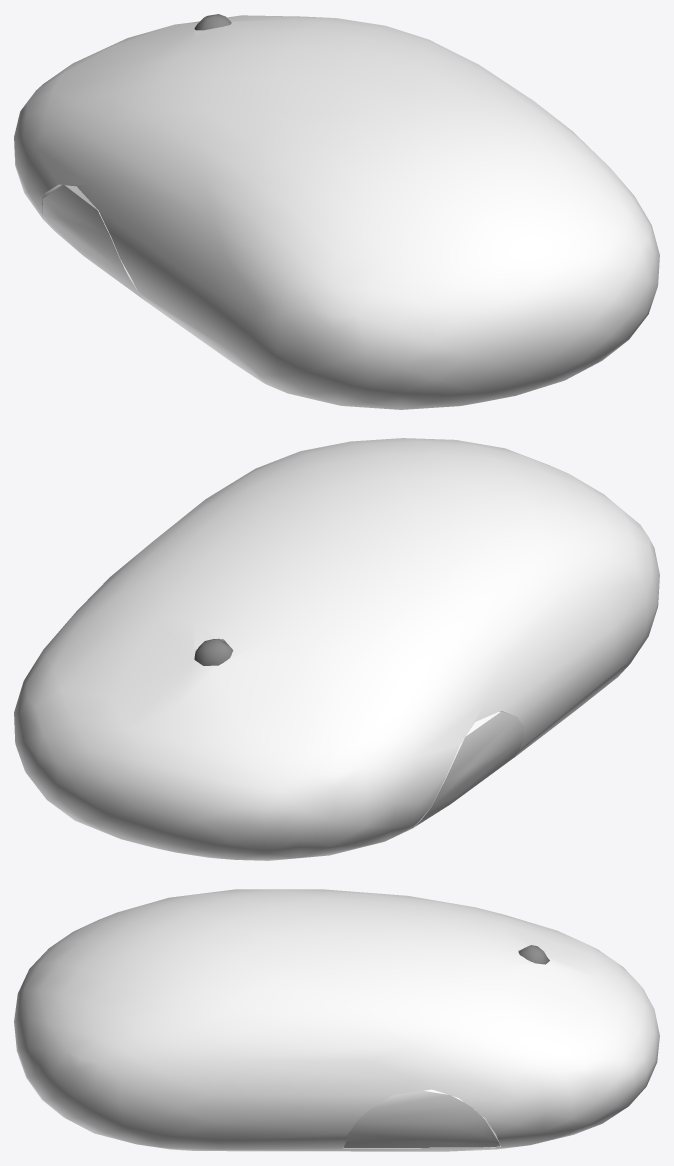
Rendered from Mouse.FBX.
The picture shows the model from 3 angles, top to bottom: view 1: azimuth 30°, elevation 25°; view 2: azimuth 150°, elevation 25°; view 3: azimuth 270°, elevation 25°; orthographic projection. The views are drawn at different scales.
Visible parts, largest first — view 1: Mouse; view 2: Mouse; view 3: Mouse.
Boxes of the visible parts, x1,y1,x2,y2 form: Mouse: (14, 14, 659, 409); Mouse: (14, 438, 659, 860); Mouse: (14, 889, 659, 1151).
Size of the model in its own units: 10.87 by 5.18 by 18.34.
Materials: 1 (1 with a texture image).
